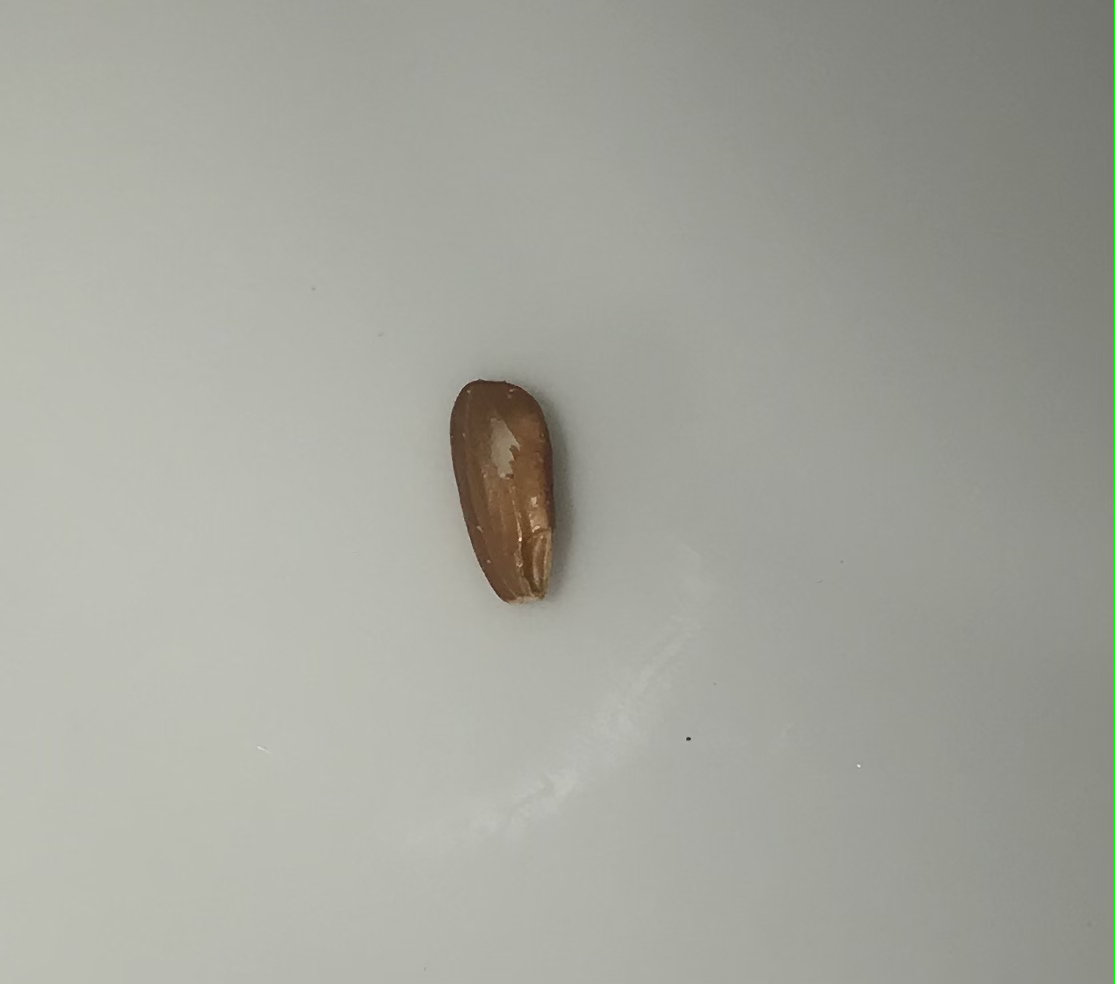Gao Lut Dien Bien: (439, 373, 582, 620)
